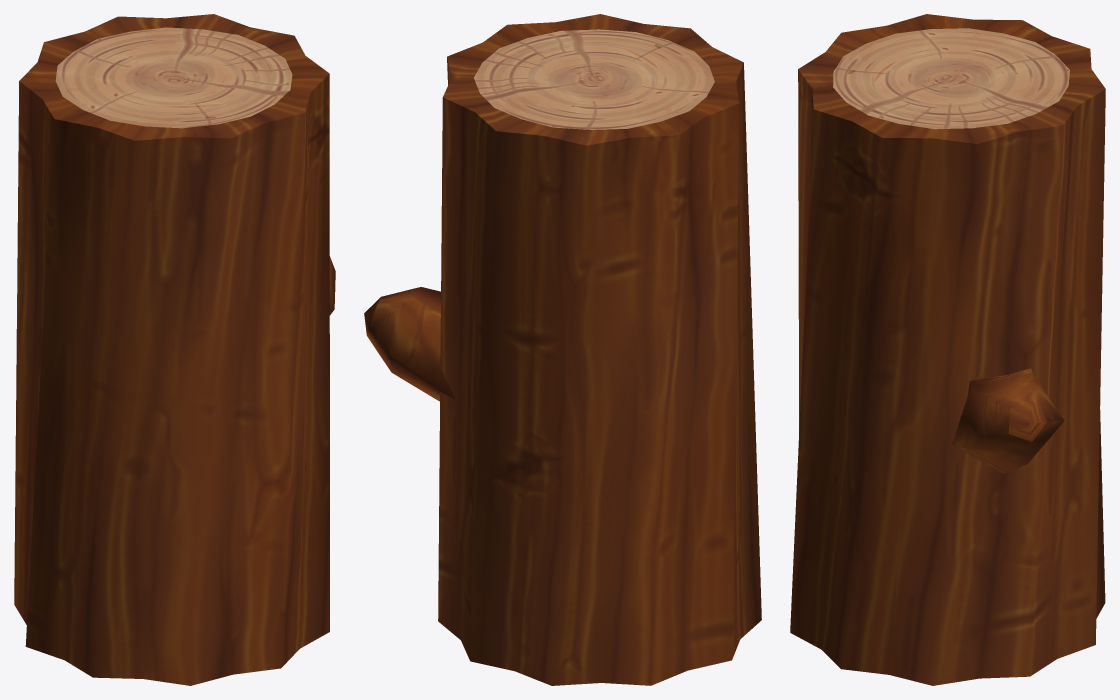
Rendered from obj_harvests_trees_pine01_p05.fbx.
3 renders of one model, left to right at view 1: azimuth 30°, elevation 25°; view 2: azimuth 150°, elevation 25°; view 3: azimuth 270°, elevation 25°, orthographic.
Visible parts, largest first — view 1: obj_harvests_trees_pine01_p05; view 2: obj_harvests_trees_pine01_p05; view 3: obj_harvests_trees_pine01_p05.
Part boxes in pixels (x1,y1,x2,y2): obj_harvests_trees_pine01_p05: [14, 14, 335, 685]; obj_harvests_trees_pine01_p05: [364, 14, 761, 685]; obj_harvests_trees_pine01_p05: [790, 14, 1105, 685].
Size of the model in its own units: 5.19 by 8 by 4.23.
